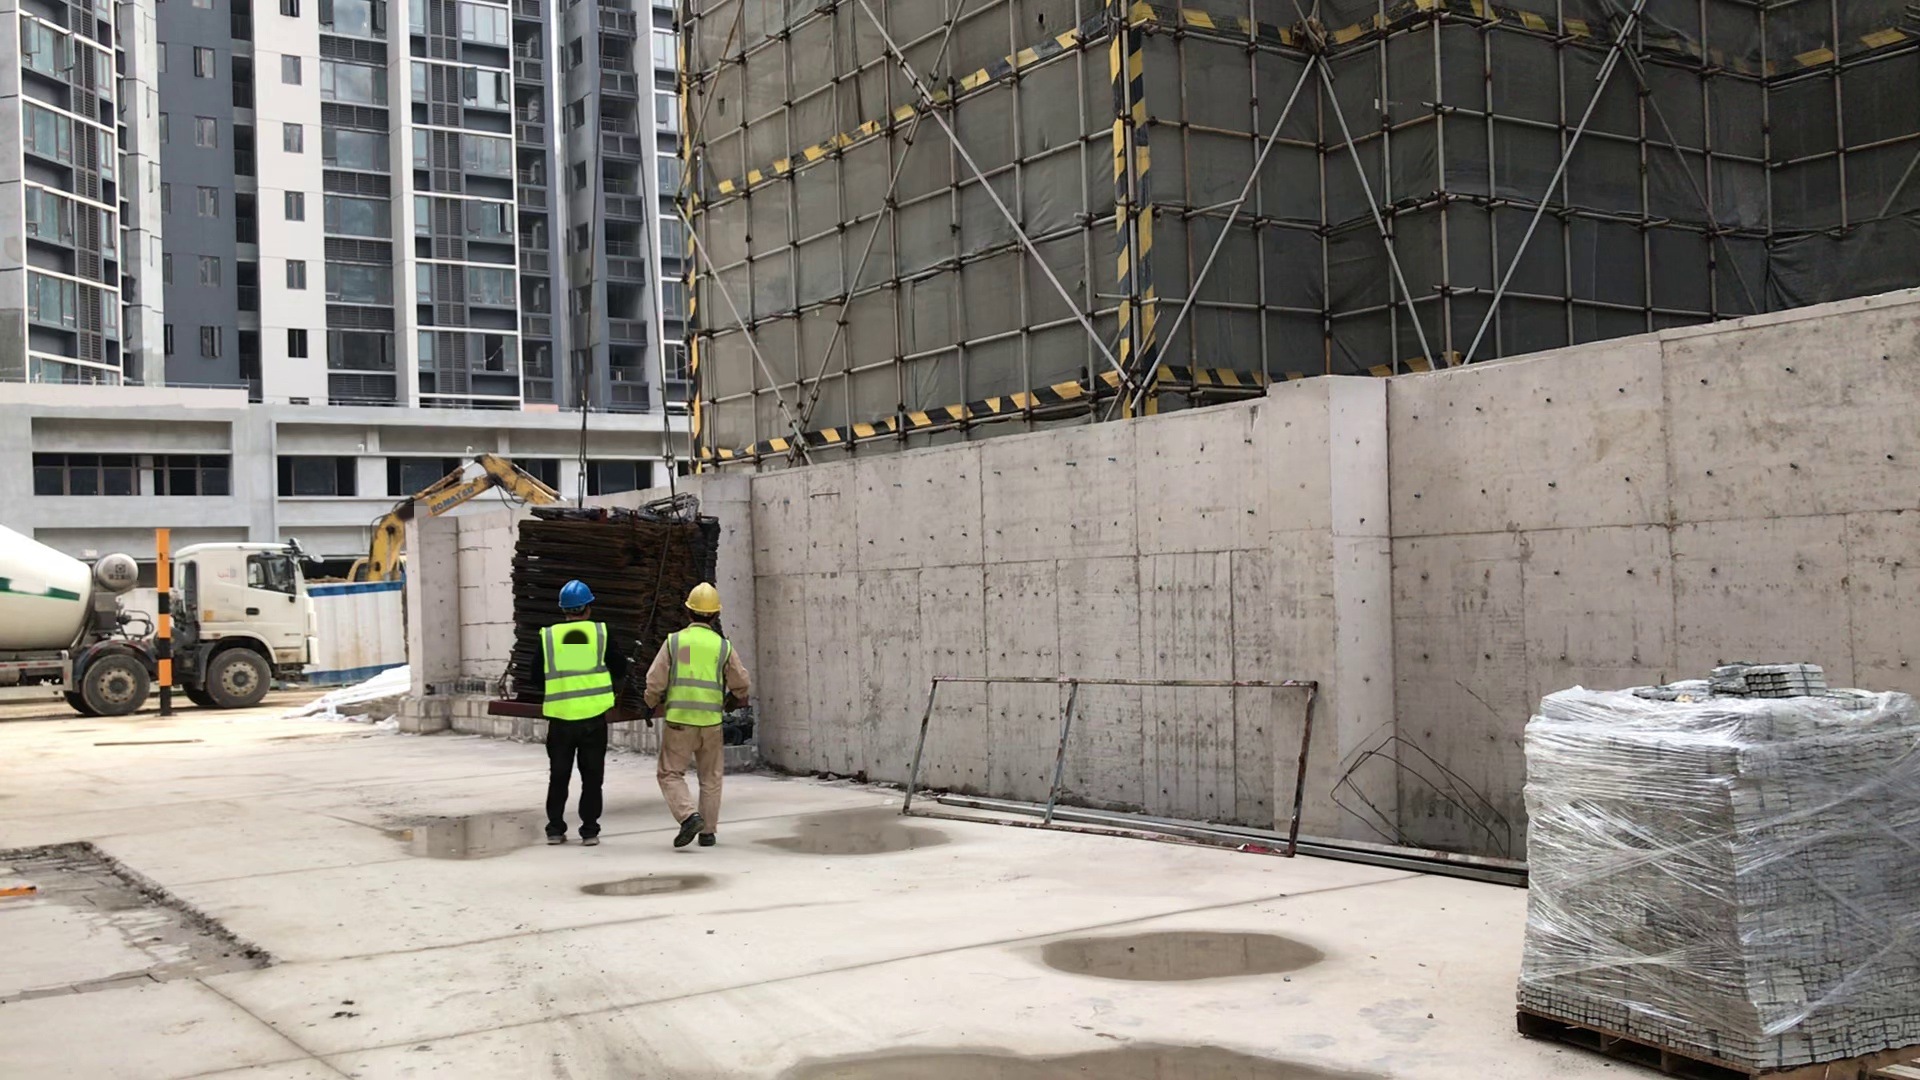helmet: (552, 576, 597, 611), (684, 586, 727, 615)
person: (653, 573, 753, 882), (531, 587, 621, 840)
vest: (657, 615, 740, 727), (544, 620, 615, 719)
